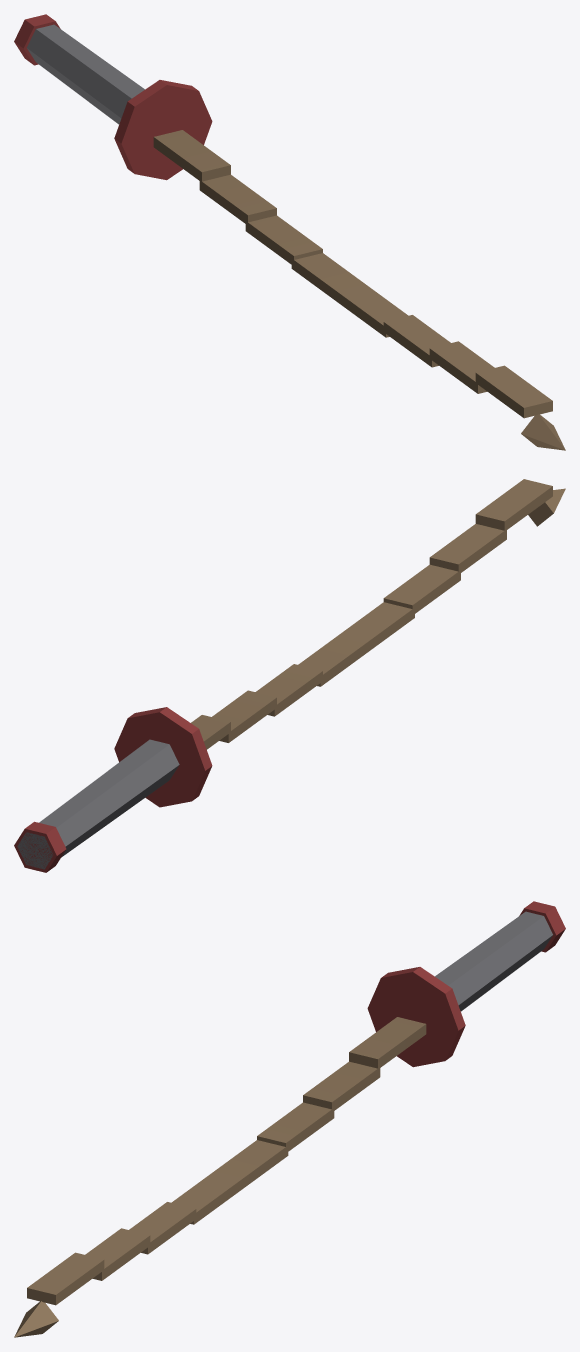
File: SM_Weapon_Tachi.glb
3 renders of one model, top to bottom at view 1: azimuth 30°, elevation 25°; view 2: azimuth 150°, elevation 25°; view 3: azimuth 330°, elevation 25°, orthographic.
Visible parts, largest first — view 1: asset_weapon_tachi; view 2: asset_weapon_tachi; view 3: asset_weapon_tachi.
Boxes of the visible parts, x1,y1,x2,y2 form: asset_weapon_tachi: [14, 14, 565, 450]; asset_weapon_tachi: [14, 479, 565, 872]; asset_weapon_tachi: [14, 901, 565, 1337].
Bounding box in the file's own units: 0.11 × 0.11 × 1.11.
1 material, 1 textured.
